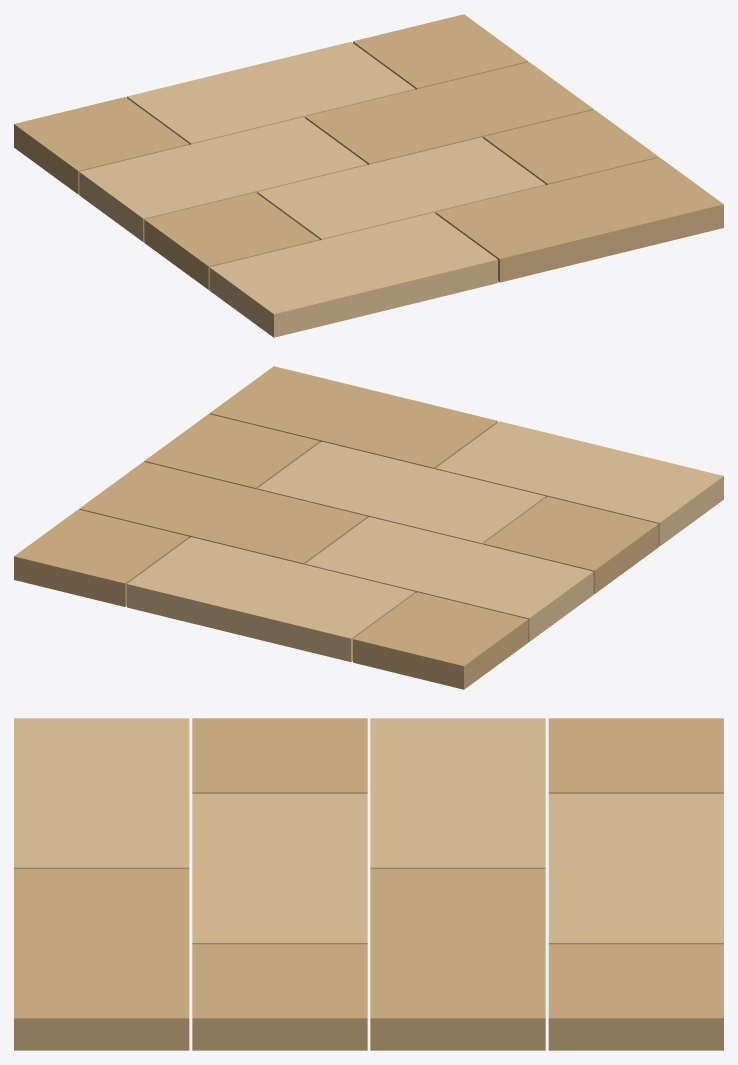
File: floorParquetLight.glb
3 views of the same model, one above another, from view 1: azimuth 30°, elevation 25°; view 2: azimuth 150°, elevation 25°; view 3: azimuth 270°, elevation 25° (orthographic). The views are drawn at different scales.
Parts seen in each view (by area): view 1: floorParquetLight; view 2: floorParquetLight; view 3: floorParquetLight.
Part boxes in pixels (x1,y1,x2,y2): floorParquetLight: (14, 14, 723, 337); floorParquetLight: (14, 366, 723, 689); floorParquetLight: (14, 718, 723, 1050).
Size of the model in its own units: 1 by 0.05 by 1.
1 material, 1 textured.
